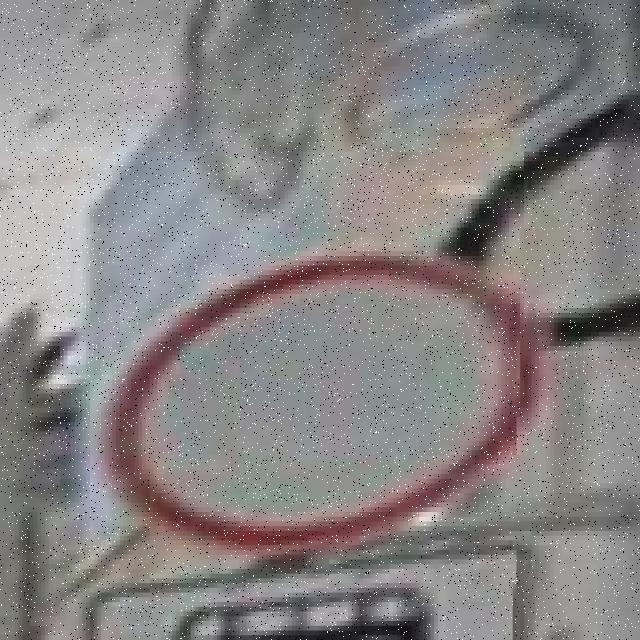Zakaz ruchu w obu kierunkach: (104, 246, 546, 560)
